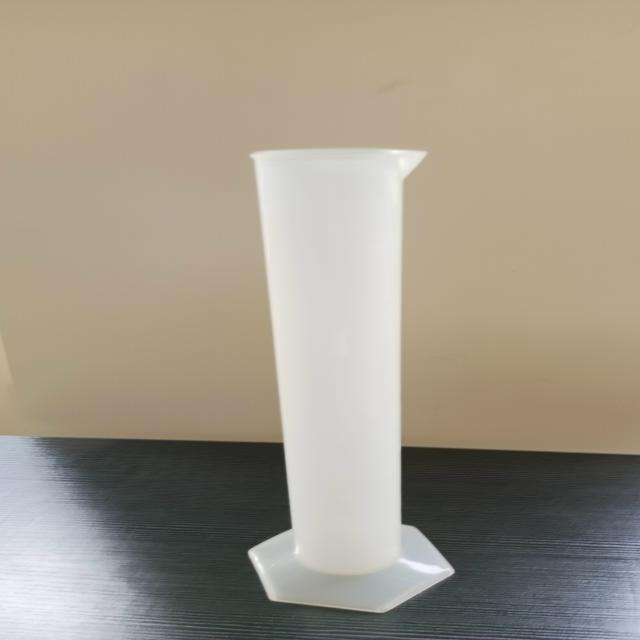graduated_cylinder: (241, 144, 461, 616)
